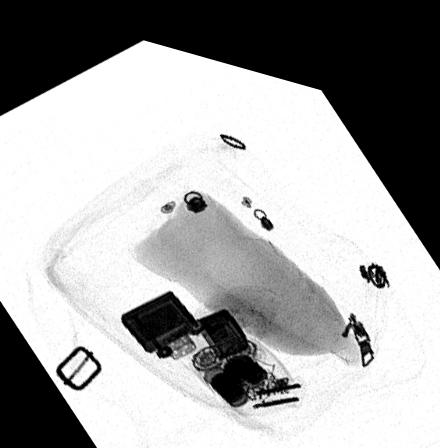Lighter: (117, 278, 250, 350)
